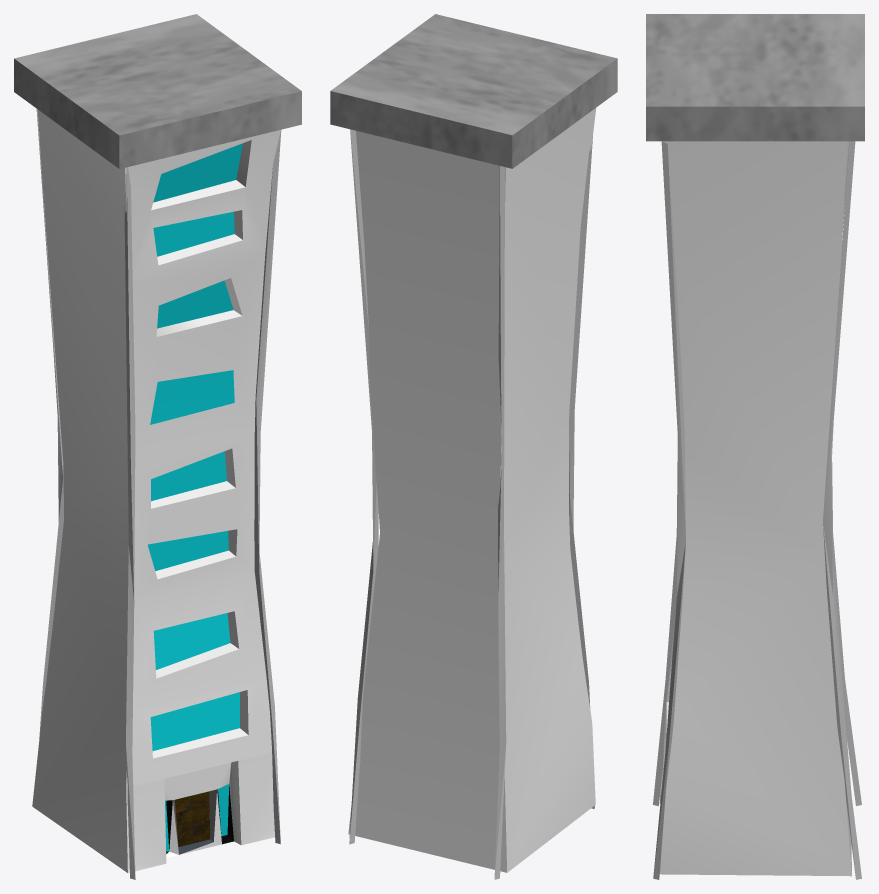
Rendered from PredioAltoFino-BrancoLOD1.fbx.
3 renders of one model, left to right at view 1: azimuth 30°, elevation 25°; view 2: azimuth 150°, elevation 25°; view 3: azimuth 270°, elevation 25°, orthographic. The views are drawn at different scales.
Parts seen in each view (by area): view 1: PredioAltoFinoLOD1; view 2: PredioAltoFinoLOD1; view 3: PredioAltoFinoLOD1.
Boxes of the visible parts, x1,y1,x2,y2 form: PredioAltoFinoLOD1: [14, 14, 301, 879]; PredioAltoFinoLOD1: [330, 14, 617, 879]; PredioAltoFinoLOD1: [646, 14, 864, 879].
Size of the model in its own units: 635 by 2498 by 635.
